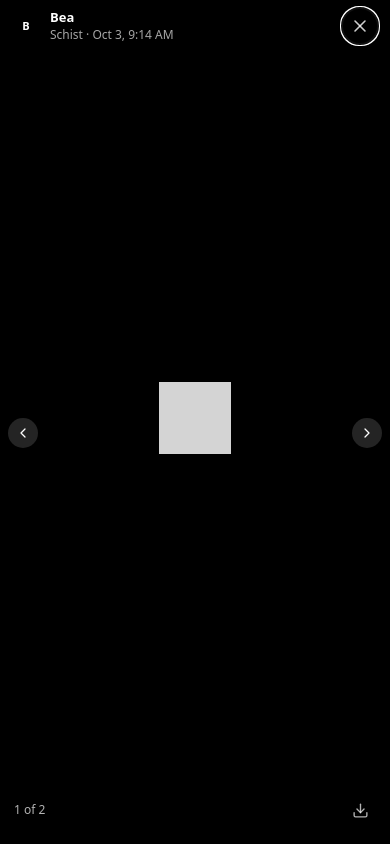
Scenario: MediaViewer › shows the partner's name for her photo, and mine for mine
The width and height of the screenshot is (390, 844).
Expected: the text "Bea" is shown, [50,8,74,26]
Step 1. Click the button named "Next" → click(367, 433), box [352,418,382,448]
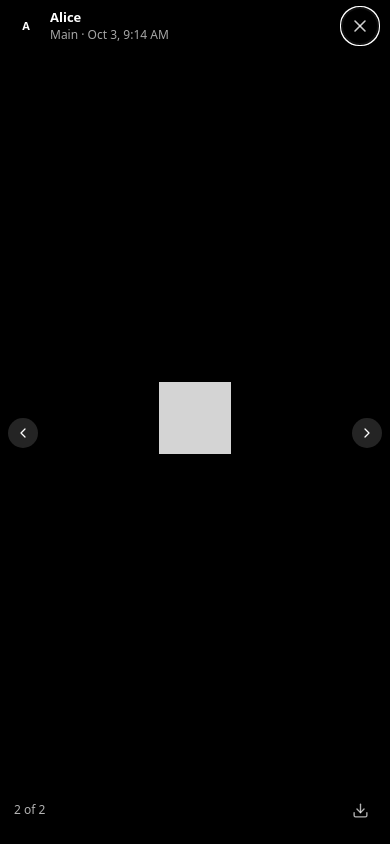
Expected: the text "Alice" is shown, [50,8,81,26]
Expected: the text "Main · Oct 3, 9:14 AM" is shown, [50,27,169,43]
